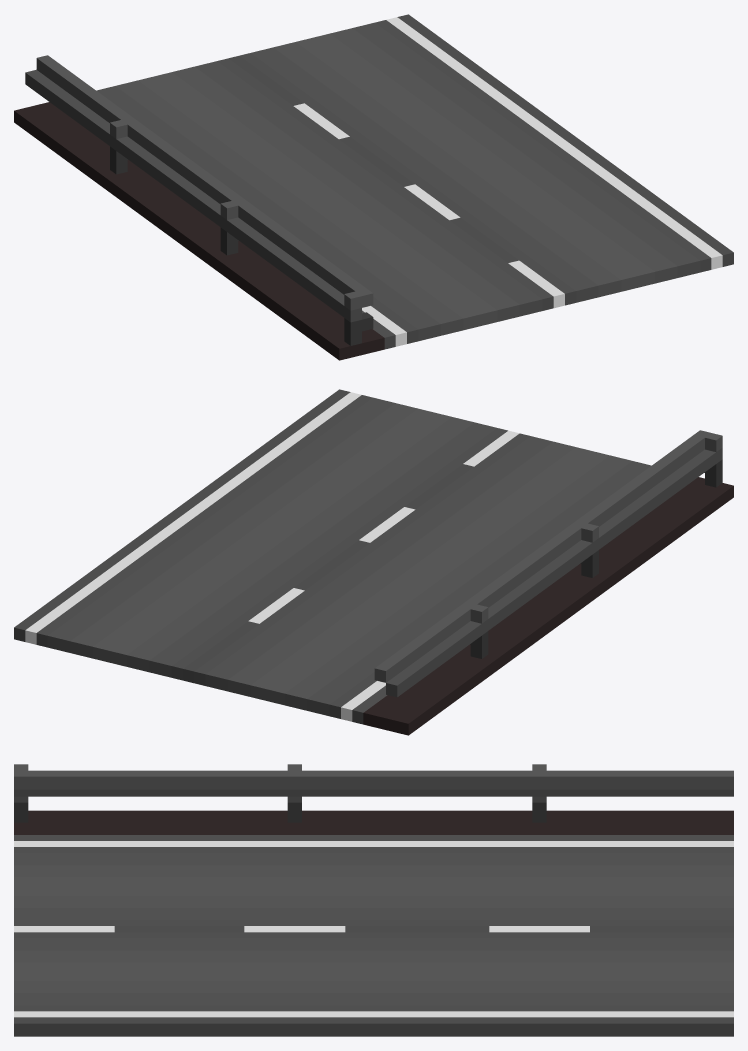
Rendered from half_road.obj.
The picture shows the model from 3 angles, top to bottom: view 1: azimuth 30°, elevation 25°; view 2: azimuth 150°, elevation 25°; view 3: azimuth 270°, elevation 25°; orthographic projection. The views are drawn at different scales.
Size of the model in its own units: 7 by 1 by 10.
1 material, 1 textured.
